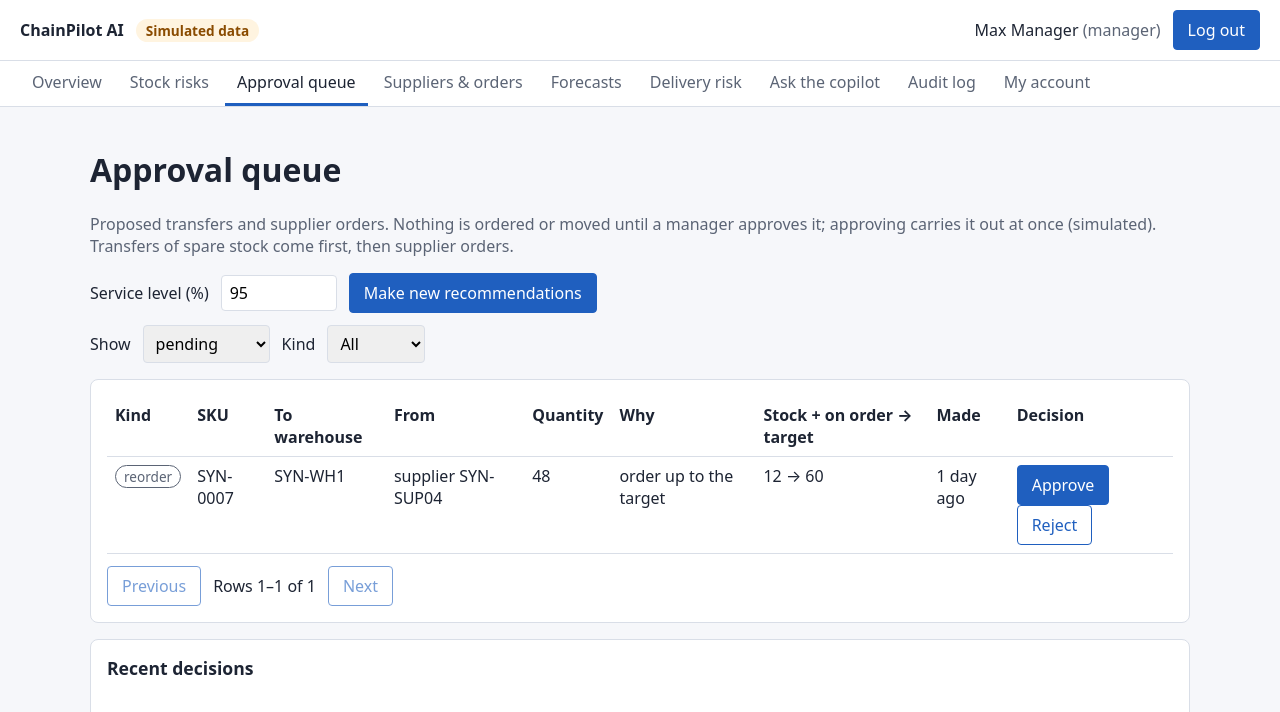
Scenario: approval queue › asks for a reason to reject and sends it
Click the button "Reject": (1054, 525) [1017,505,1092,545]
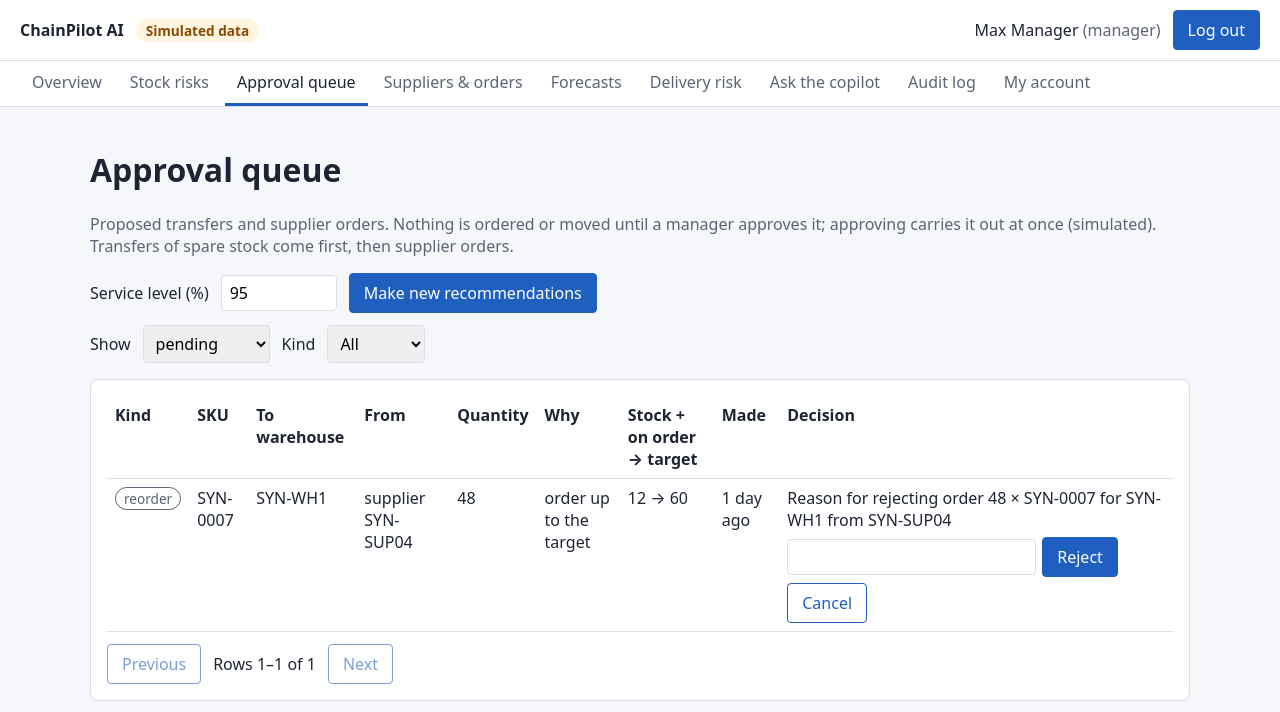
In the field labelled "Reason for rejecting": (912, 557) [787,539,1036,575], type "On hold"
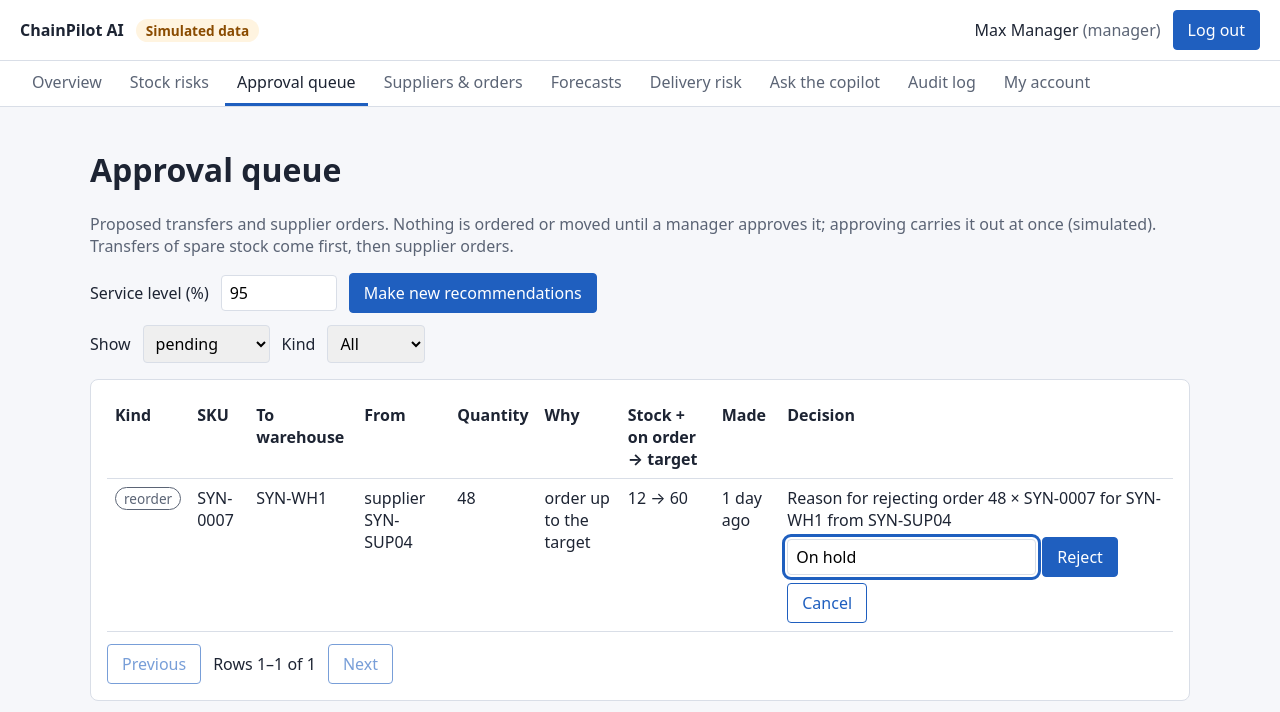
Click the button "Reject": (1080, 557) [1042,537,1118,577]
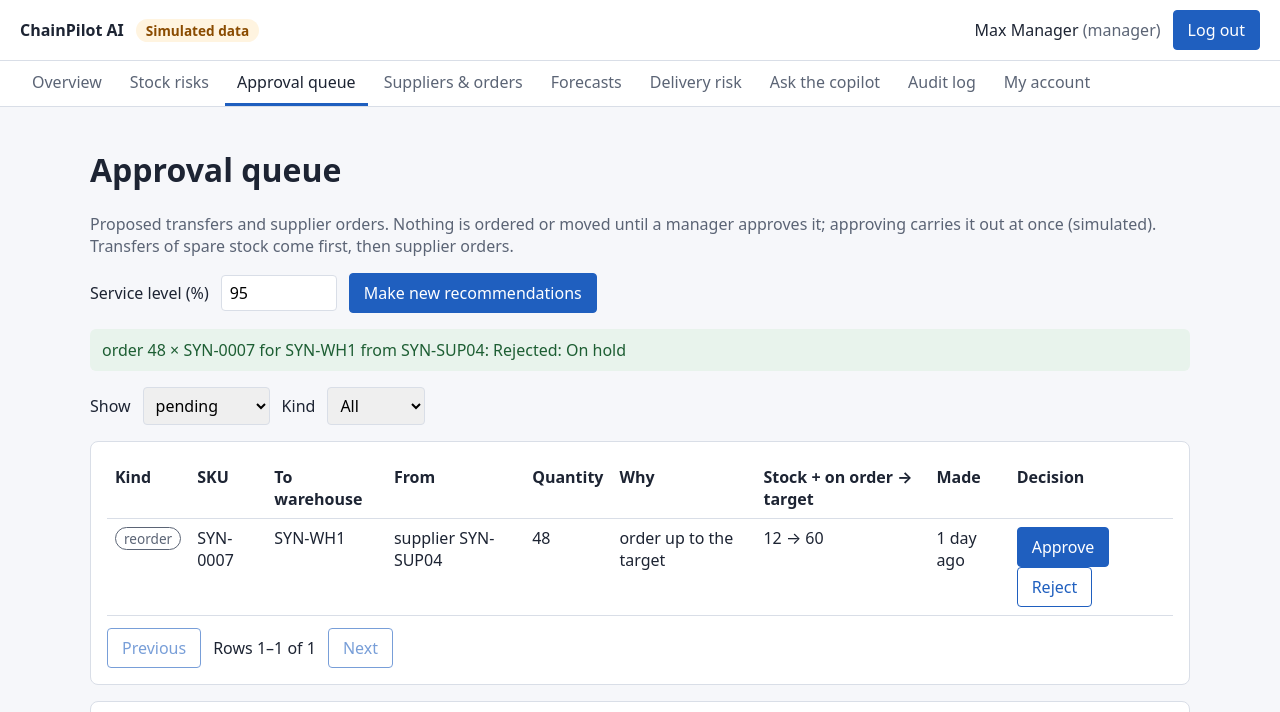
Check: the message shows "Rejected: On hold", box [102,339,626,361]
